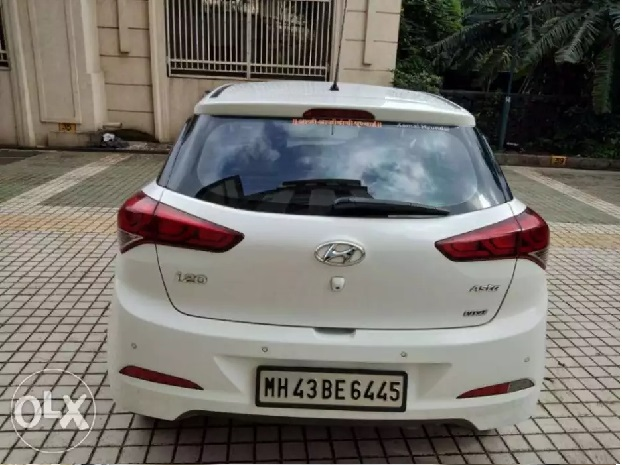licenseplate: (252, 361, 408, 413)
